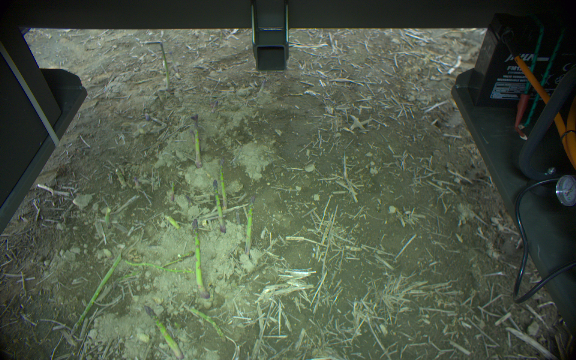aspa: (70, 253, 126, 326), (144, 302, 182, 359), (184, 302, 228, 341), (190, 215, 210, 298), (238, 193, 256, 254), (208, 178, 225, 233), (189, 112, 204, 168), (157, 40, 172, 93), (216, 159, 229, 208), (208, 100, 225, 116)
